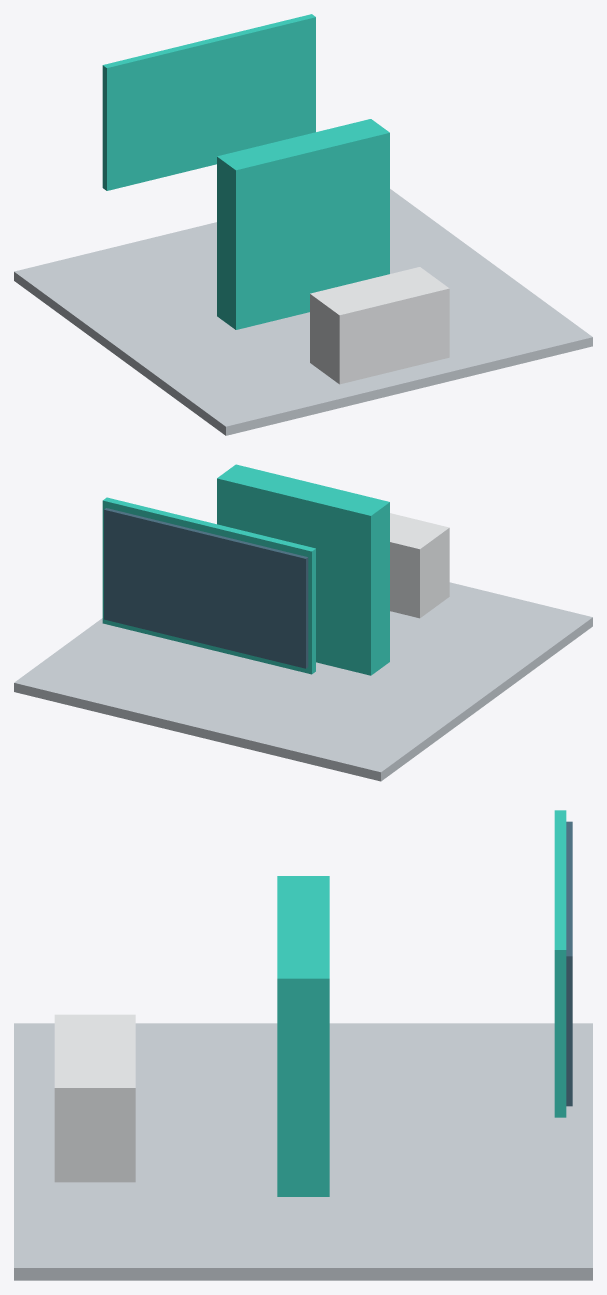
The picture shows the model from 3 angles, top to bottom: view 1: azimuth 30°, elevation 25°; view 2: azimuth 150°, elevation 25°; view 3: azimuth 270°, elevation 25°; orthographic projection. The views are drawn at different scales.
Parts seen in each view (by area): view 1: Exhibition Booth Concept; view 2: Exhibition Booth Concept; view 3: Exhibition Booth Concept.
Boxes of the visible parts, box(x1,y1,x2,y2) form: Exhibition Booth Concept: box(14, 14, 592, 435); Exhibition Booth Concept: box(14, 464, 592, 781); Exhibition Booth Concept: box(14, 810, 592, 1280).
Size of the model in its own units: 5 by 2.65 by 5.
